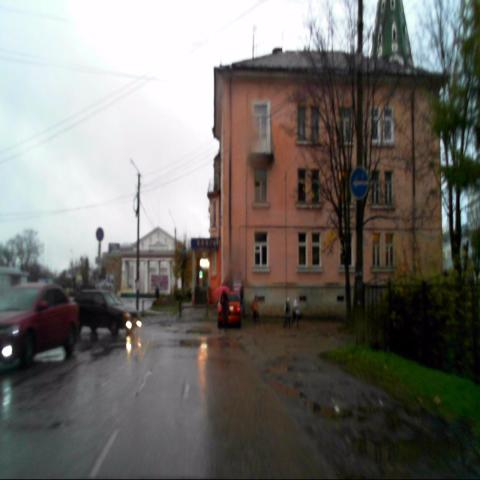4_1_2_2: (350, 165, 368, 200)
